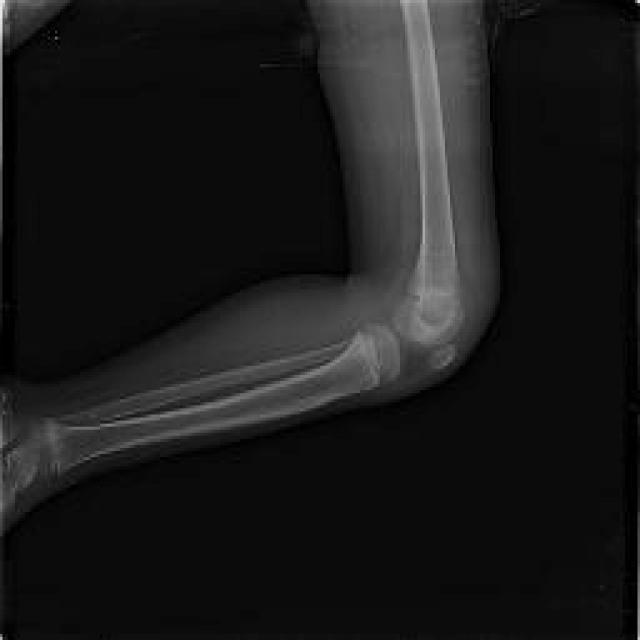normal: (0, 325, 399, 525), (32, 343, 348, 426), (396, 2, 459, 338)
